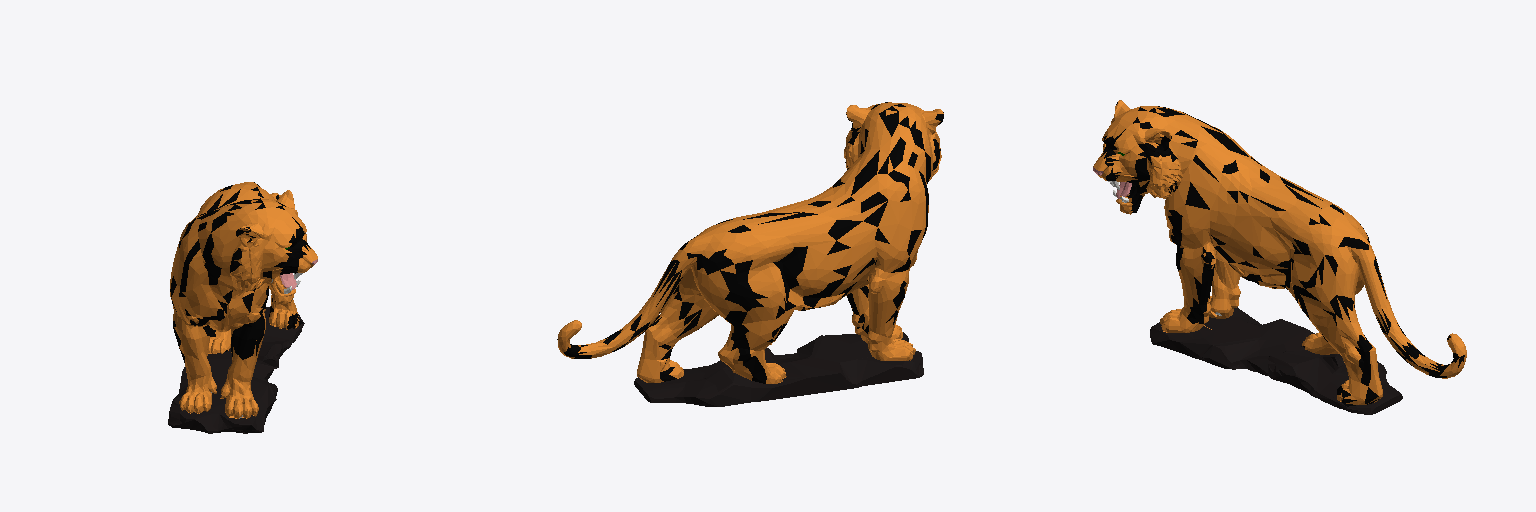
The model's file is tiger.obj.
The picture shows the model from 3 angles: view 1: azimuth 30°, elevation 25°; view 2: azimuth 150°, elevation 25°; view 3: azimuth 270°, elevation 25°; orthographic projection.
Parts seen in each view (by area): view 1: tiger; view 2: tiger; view 3: tiger.
Part boxes in pixels (left/top/right/bottom): tiger: left=168, top=182, right=317, bottom=433; tiger: left=557, top=102, right=943, bottom=406; tiger: left=1093, top=100, right=1466, bottom=414.
Size of the model in its own units: 4.17 by 3.85 by 5.62.